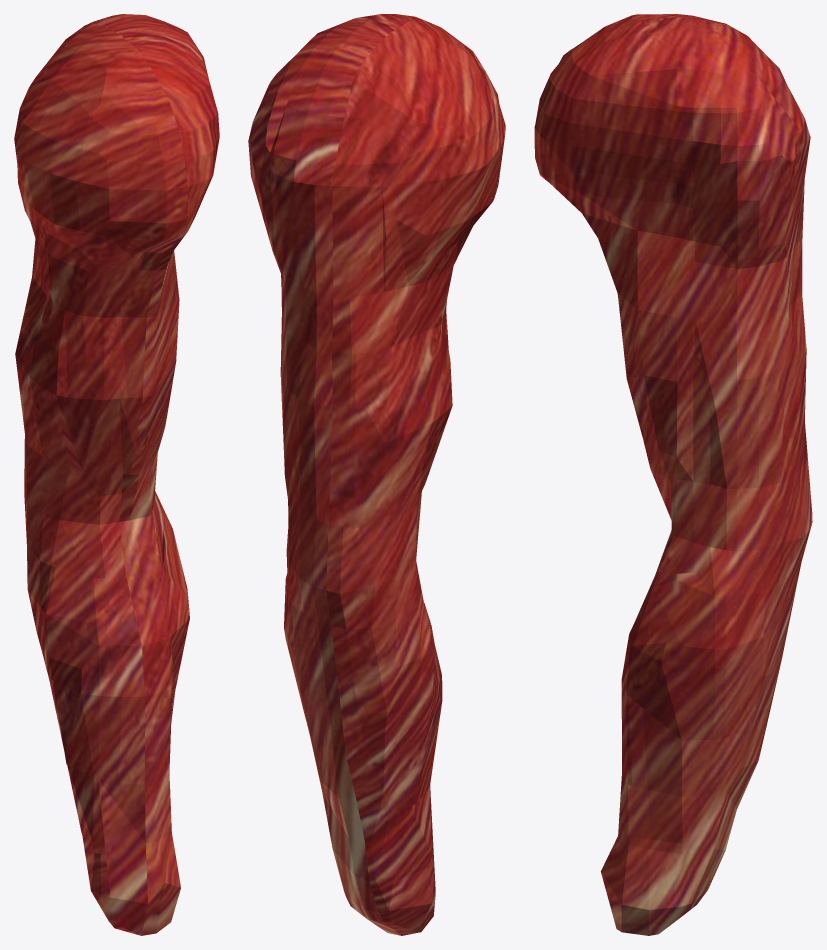
File: muscle.fbx
3 views of the same model, side by side, from view 1: azimuth 30°, elevation 25°; view 2: azimuth 150°, elevation 25°; view 3: azimuth 270°, elevation 25° (orthographic). The views are drawn at different scales.
Parts seen in each view (by area): view 1: muscle; view 2: muscle; view 3: muscle.
Part boxes in pixels (<box>): muscle: <box>14,14,219,935</box>; muscle: <box>248,14,505,935</box>; muscle: <box>534,14,812,935</box>.
Bounding box in the file's own units: 26 × 116 × 31.87.
Materials: 1 (1 with a texture image).
